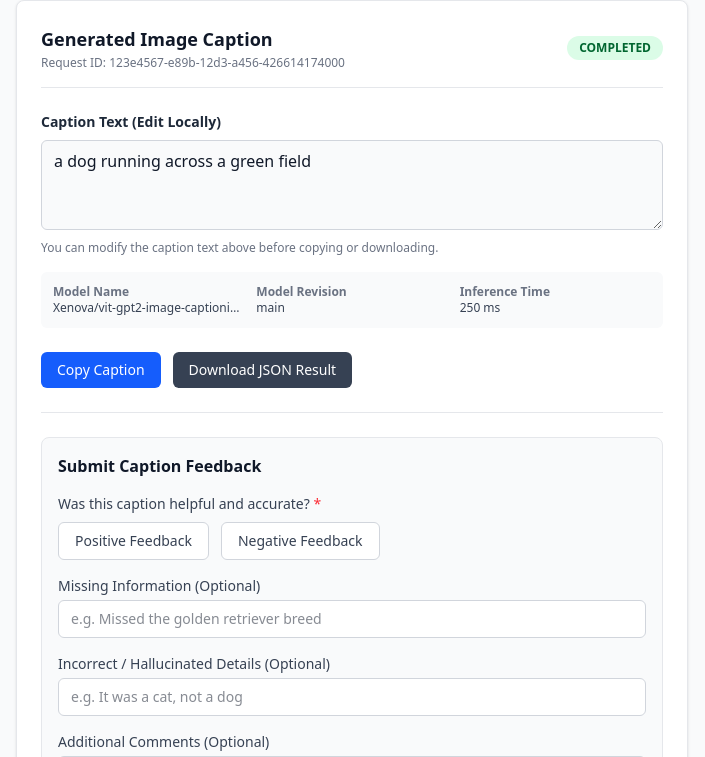
Test: CaptionResultCard Component › copies caption text to clipboard when copy button is clicked
Click the button "Copy Caption". click: [101, 370]
box: [41,352,160,388]
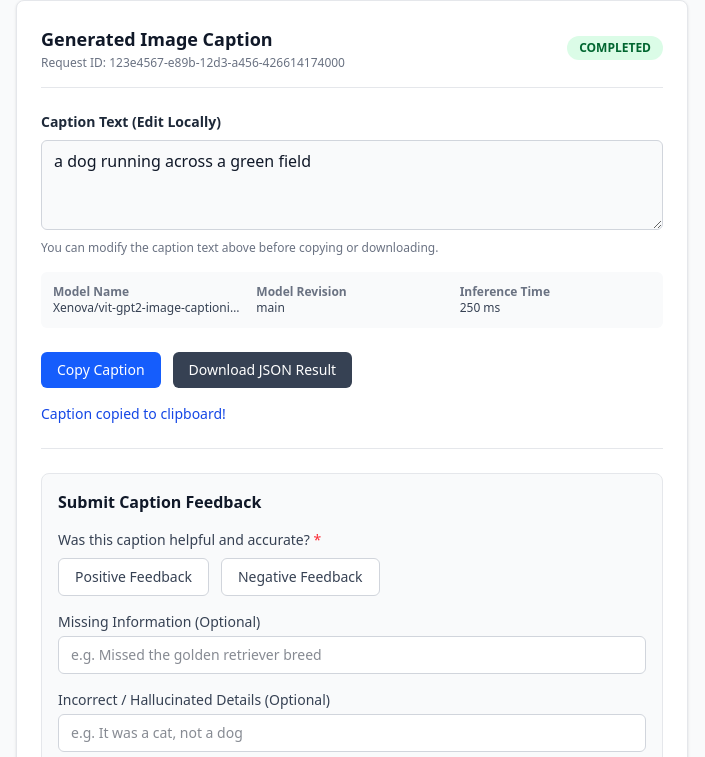
expect the message shows "Caption copied to clipboard": met, box [41,404,226,423]
